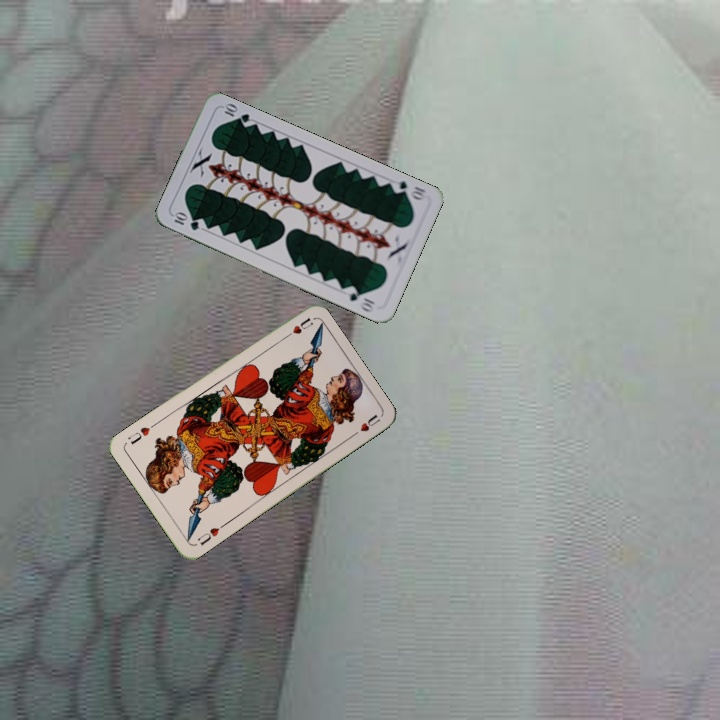G10: (388, 176, 429, 203), (169, 209, 202, 233)
HU: (279, 314, 316, 342), (193, 520, 227, 548)
